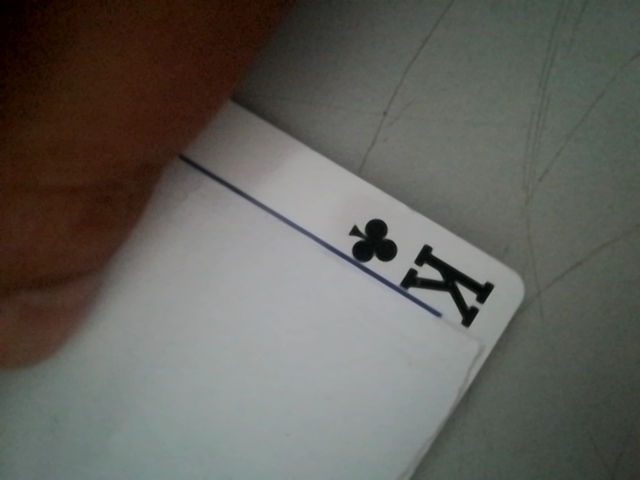mh k: (330, 204, 509, 334)
